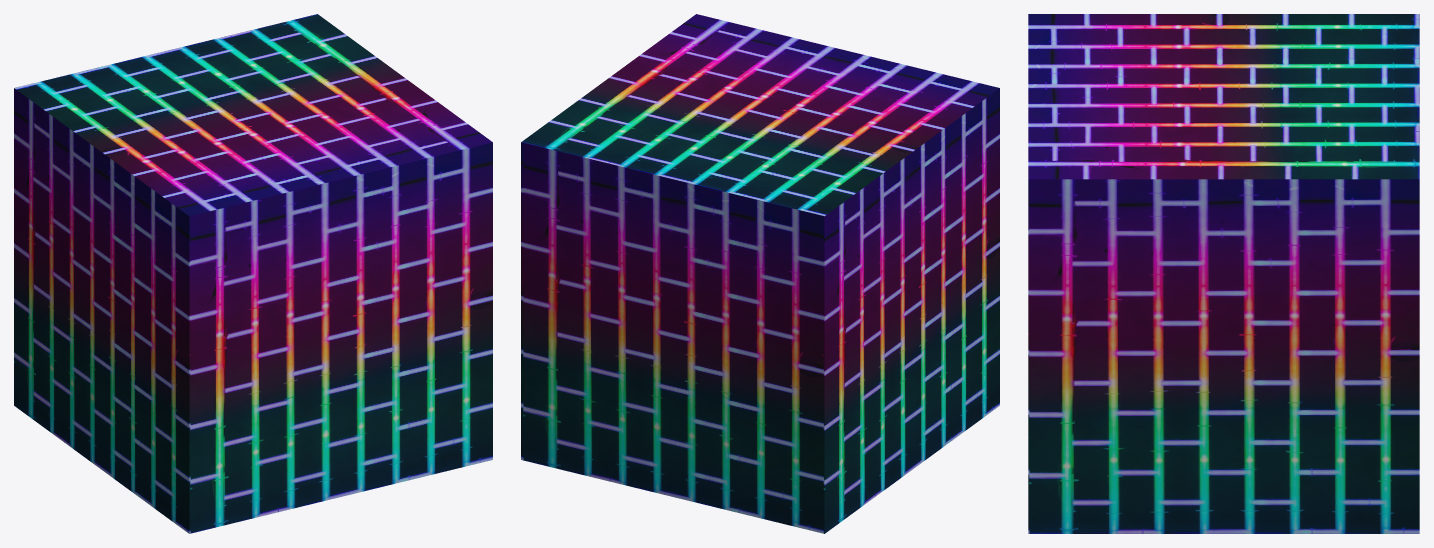
Rendered from CrateWithMat.fbx.
3 renders of one model, left to right at view 1: azimuth 30°, elevation 25°; view 2: azimuth 150°, elevation 25°; view 3: azimuth 270°, elevation 25°, orthographic. The views are drawn at different scales.
Parts seen in each view (by area): view 1: Cube; view 2: Cube; view 3: Cube.
Part boxes in pixels (box(x1,y1,x2,y2)): Cube: box(14, 14, 492, 533); Cube: box(521, 14, 999, 533); Cube: box(1028, 14, 1419, 533).
Bounding box in the file's own units: 100 × 100 × 100.
